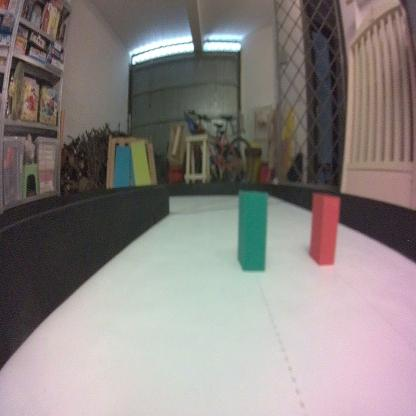green: (236, 184, 268, 271)
red: (307, 188, 340, 266)
